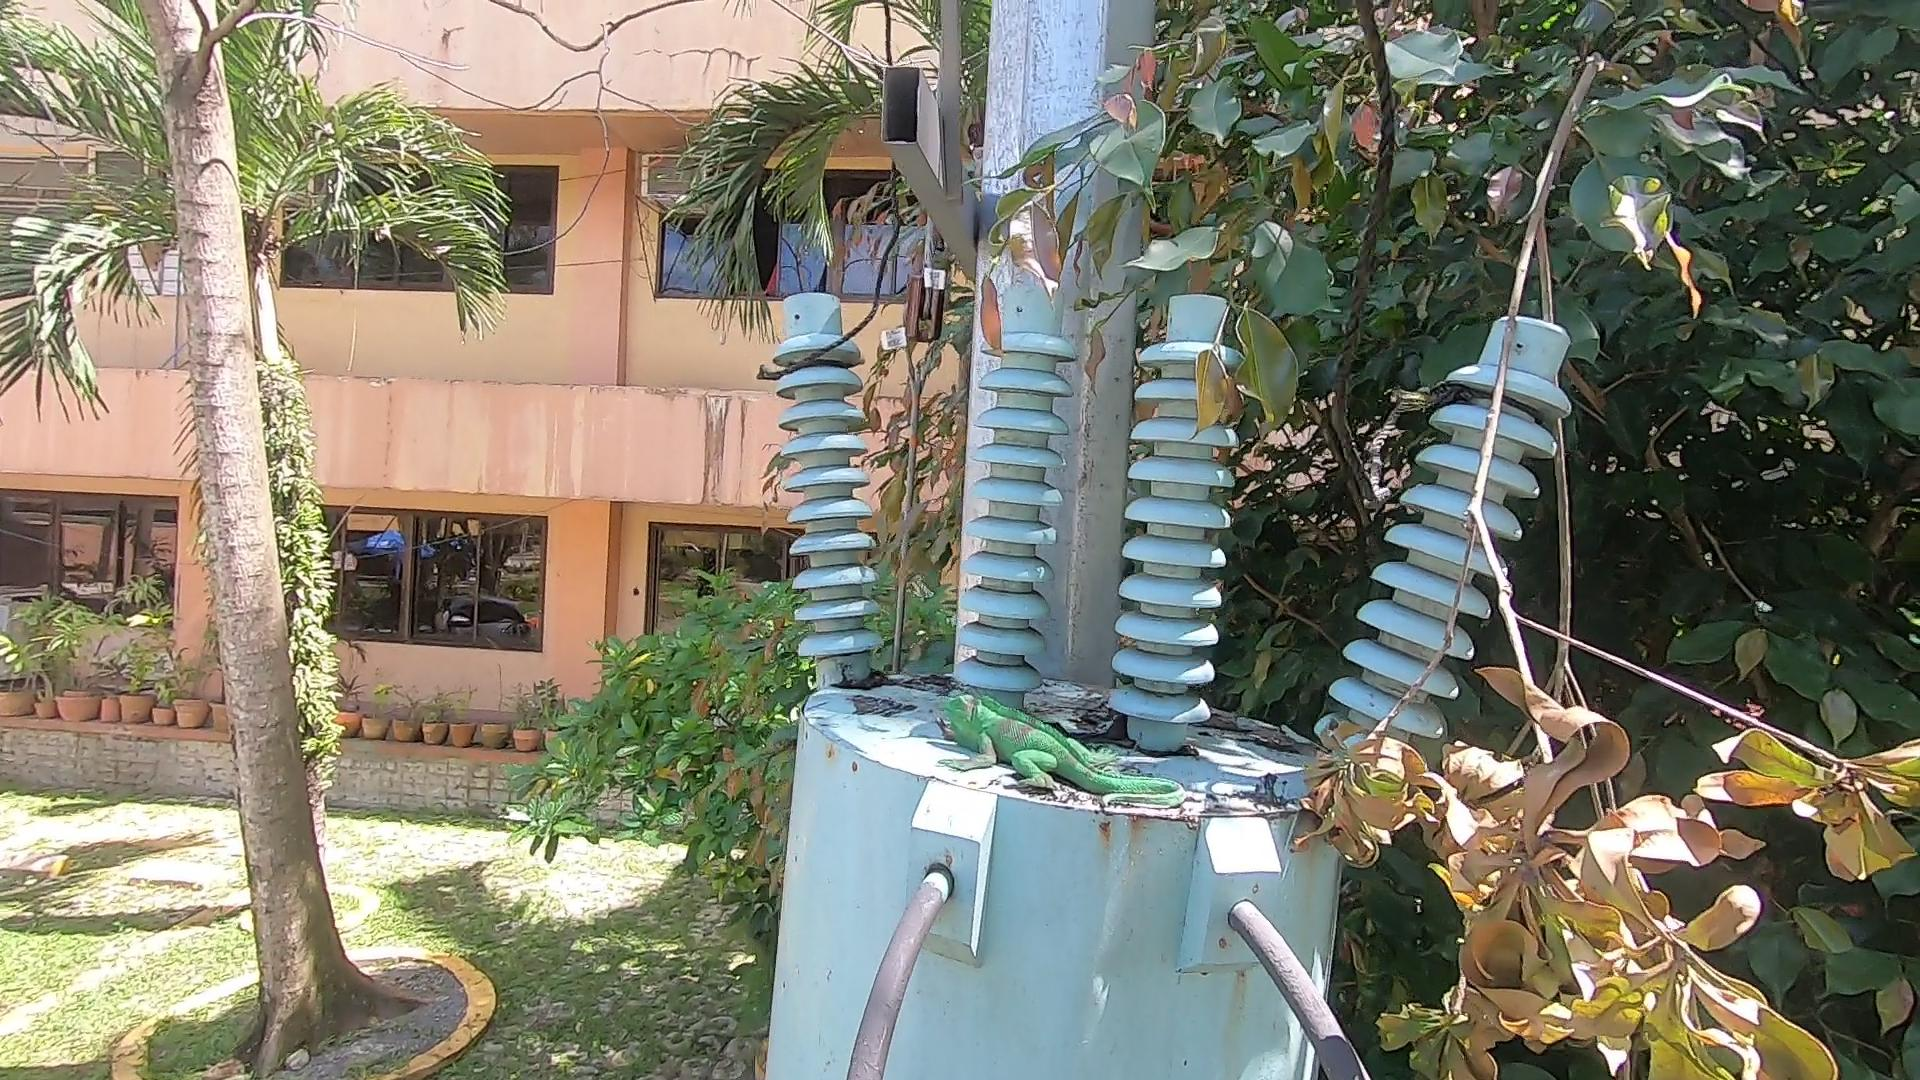branch with leaves: (1244, 40, 1912, 1077)
leaf: (1095, 720, 1135, 742)
